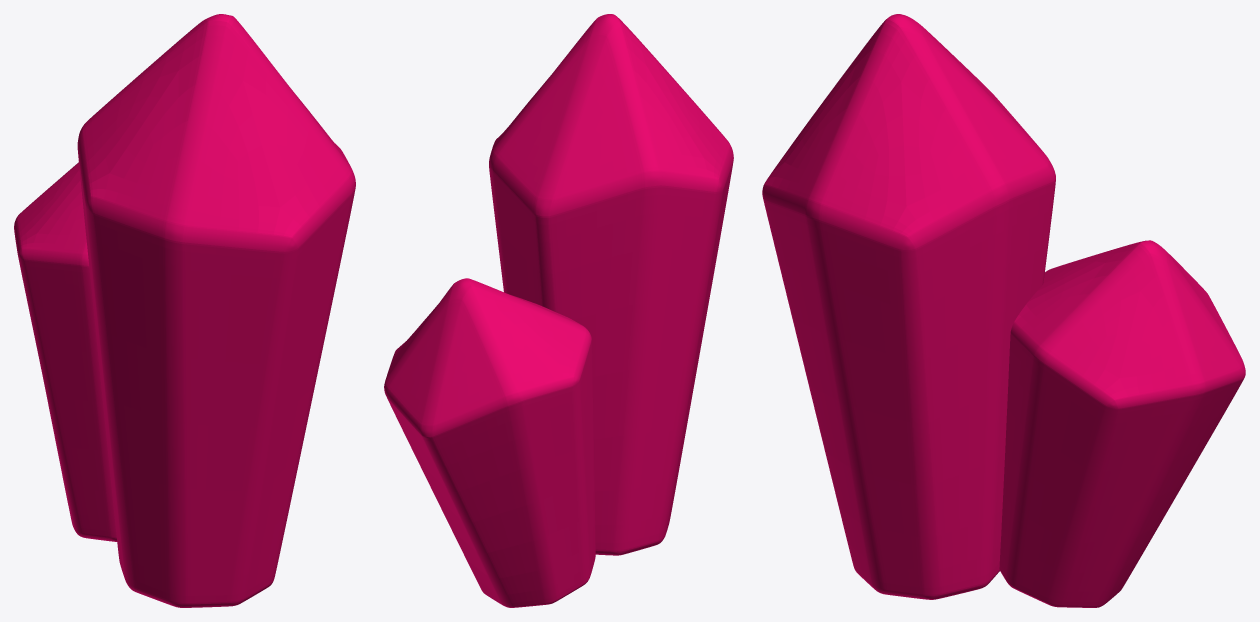
File: kristalle_2.fbx
The picture shows the model from 3 angles, left to right: view 1: azimuth 30°, elevation 25°; view 2: azimuth 150°, elevation 25°; view 3: azimuth 270°, elevation 25°; orthographic projection. The views are drawn at different scales.
Parts seen in each view (by area): view 1: Kristall, Kristall.002; view 2: Kristall, Kristall.002; view 3: Kristall, Kristall.002.
Part boxes in pixels (bbox=[...]): Kristall: bbox=[77, 14, 355, 607]; Kristall.002: bbox=[14, 162, 117, 541]; Kristall: bbox=[489, 14, 733, 555]; Kristall.002: bbox=[384, 278, 595, 607]; Kristall: bbox=[762, 14, 1055, 599]; Kristall.002: bbox=[999, 240, 1245, 607].
Size of the model in its own units: 50.45 by 108 by 82.8.
